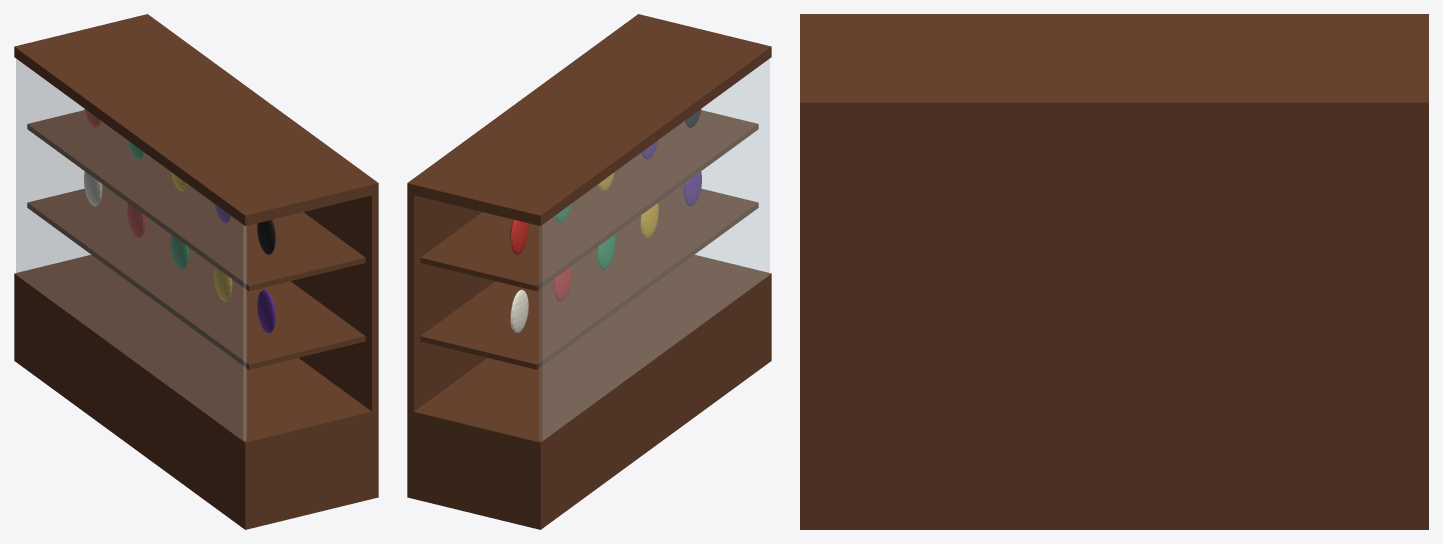
Rendered from mask_case.glb.
3 views of the same model, side by side, from view 1: azimuth 30°, elevation 25°; view 2: azimuth 150°, elevation 25°; view 3: azimuth 270°, elevation 25° (orthographic). The views are drawn at different scales.
Parts seen in each view (by area): view 1: base_case_wood, glass_case_glass, shelf_case_wood, top_case_wood, back_case_wood, mask; view 2: base_case_wood, glass_case_glass, shelf_case_wood, top_case_wood, back_case_wood, mask; view 3: back_case_wood, base_case_wood, top_case_wood.
Part boxes in pixels (bbox=[...]): base_case_wood: bbox=[14, 255, 378, 529]; glass_case_glass: bbox=[16, 59, 246, 440]; shelf_case_wood: bbox=[27, 110, 365, 369]; top_case_wood: bbox=[14, 14, 378, 225]; back_case_wood: bbox=[141, 14, 378, 411]; mask: bbox=[84, 109, 275, 333]; base_case_wood: bbox=[407, 255, 771, 529]; glass_case_glass: bbox=[539, 59, 769, 440]; shelf_case_wood: bbox=[420, 110, 758, 369]; top_case_wood: bbox=[407, 14, 771, 225]; back_case_wood: bbox=[407, 14, 643, 411]; mask: bbox=[510, 109, 701, 333]; back_case_wood: bbox=[800, 98, 1428, 411]; base_case_wood: bbox=[800, 411, 1428, 529]; top_case_wood: bbox=[800, 14, 1428, 116].
Size of the model in its own units: 0.8 by 1.8 by 2.4.
